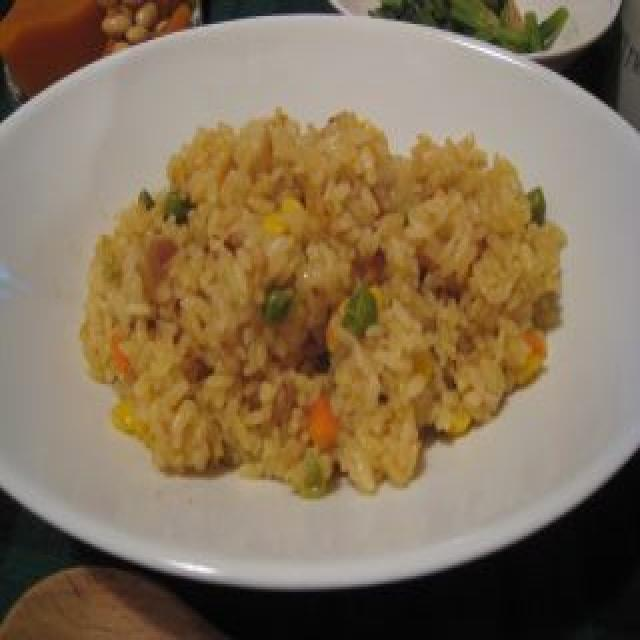米饭主食: (76, 70, 576, 502)
